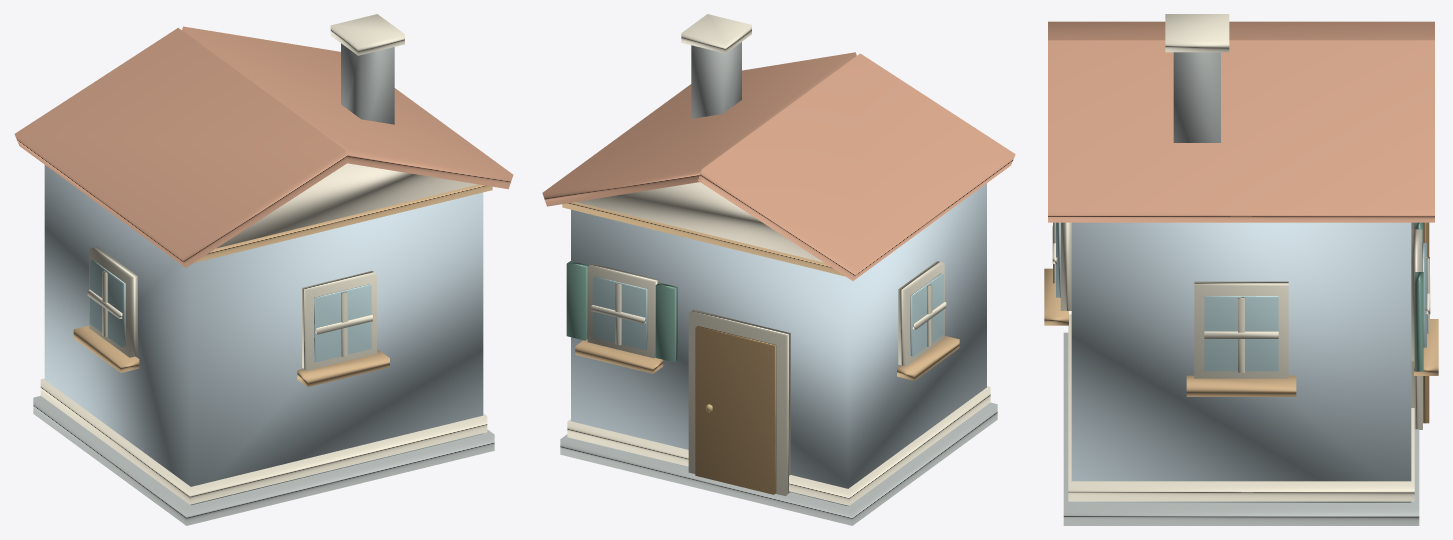
File: cottage_3_low.glb
3 renders of one model, left to right at view 1: azimuth 30°, elevation 25°; view 2: azimuth 150°, elevation 25°; view 3: azimuth 270°, elevation 25°, orthographic. The views are drawn at different scales.
Size of the model in its own units: 3.42 by 3.88 by 3.02.
